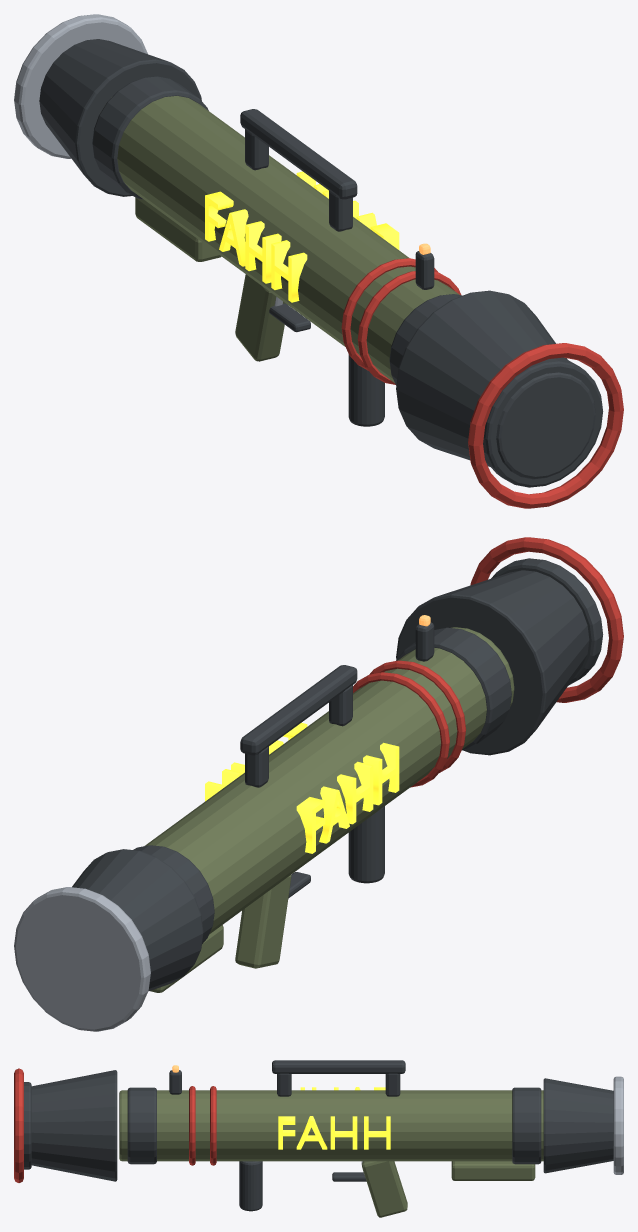
File: fahh_gun.glb
The picture shows the model from 3 angles, top to bottom: view 1: azimuth 30°, elevation 25°; view 2: azimuth 150°, elevation 25°; view 3: azimuth 270°, elevation 25°; orthographic projection. The views are drawn at different scales.
Parts seen in each view (by area): view 1: Main_Tube, Muzzle_Bell, Exhaust_Flare, Muzzle_Rim, Exhaust_Lip, Side_Text_Left, Tube_Collar_Rear, Muzzle_Throat, Handle_Bar, Pistol_Grip, Front_Grip, Shoulder_Rest (+8 smaller); view 2: Main_Tube, Muzzle_Bell, Exhaust_Lip, Exhaust_Flare, Muzzle_Rim, Side_Text_Left, Tube_Collar_Front, Pistol_Grip, Handle_Bar, Muzzle_Throat, Front_Grip, Tube_Collar_Rear (+7 smaller); view 3: Main_Tube, Muzzle_Bell, Exhaust_Flare, Tube_Collar_Rear, Tube_Collar_Front, Handle_Bar, Pistol_Grip, Side_Text_Right, Shoulder_Rest, Front_Grip, Muzzle_Rim, Exhaust_Lip (+7 smaller).
Boxes of the visible parts, box(x1,y1,x2,y2) form: Main_Tube: box(111, 96, 459, 382); Muzzle_Bell: box(396, 290, 595, 479); Exhaust_Flare: box(39, 39, 201, 196); Muzzle_Rim: box(468, 343, 623, 508); Exhaust_Lip: box(14, 14, 147, 158); Side_Text_Left: box(205, 191, 307, 302); Tube_Collar_Rear: box(92, 76, 208, 199); Muzzle_Throat: box(483, 358, 603, 487); Handle_Bar: box(240, 109, 357, 199); Pistol_Grip: box(235, 274, 285, 361); Front_Grip: box(348, 354, 384, 426); Shoulder_Rest: box(135, 197, 221, 261); Main_Tube: box(145, 627, 514, 934); Muzzle_Bell: box(396, 570, 589, 755); Exhaust_Lip: box(14, 887, 150, 1031); Exhaust_Flare: box(72, 849, 203, 991); Muzzle_Rim: box(470, 537, 623, 702); Side_Text_Left: box(296, 742, 399, 853); Tube_Collar_Front: box(396, 627, 511, 750); Pistol_Grip: box(235, 875, 291, 968); Handle_Bar: box(240, 665, 357, 755); Muzzle_Throat: box(491, 558, 603, 685); Front_Grip: box(348, 806, 384, 883); Tube_Collar_Rear: box(133, 845, 214, 943); Main_Tube: box(119, 1090, 543, 1161); Muzzle_Bell: box(31, 1070, 117, 1181); Exhaust_Flare: box(543, 1078, 613, 1173); Tube_Collar_Rear: box(512, 1087, 541, 1164); Tube_Collar_Front: box(127, 1087, 156, 1164); Handle_Bar: box(272, 1060, 405, 1073); Pistol_Grip: box(362, 1161, 407, 1217); Side_Text_Right: box(278, 1116, 390, 1149); Shoulder_Rest: box(451, 1161, 535, 1180); Front_Grip: box(239, 1161, 262, 1211); Muzzle_Rim: box(14, 1068, 23, 1182); Exhaust_Lip: box(613, 1076, 623, 1174).
Size of the model in its own units: 0.276 by 0.4042 by 1.46.
